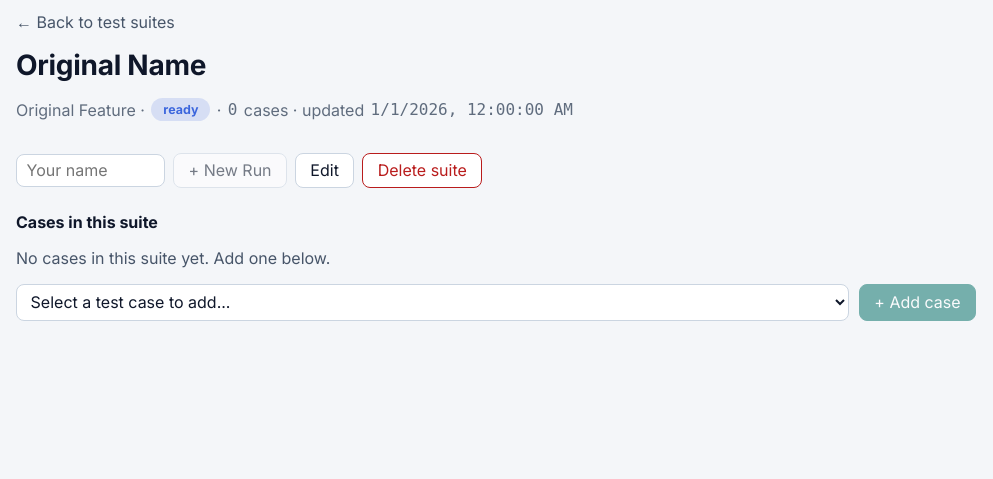
Test: TestSuiteDetailPage — edit/cancel › cancelling an edit does not leak the discarded draft into the next edit session
Check: the heading "Original Name" is shown, box [16,48,206,82]
Click the button "Edit" at (325, 170), box [295,153,354,188]
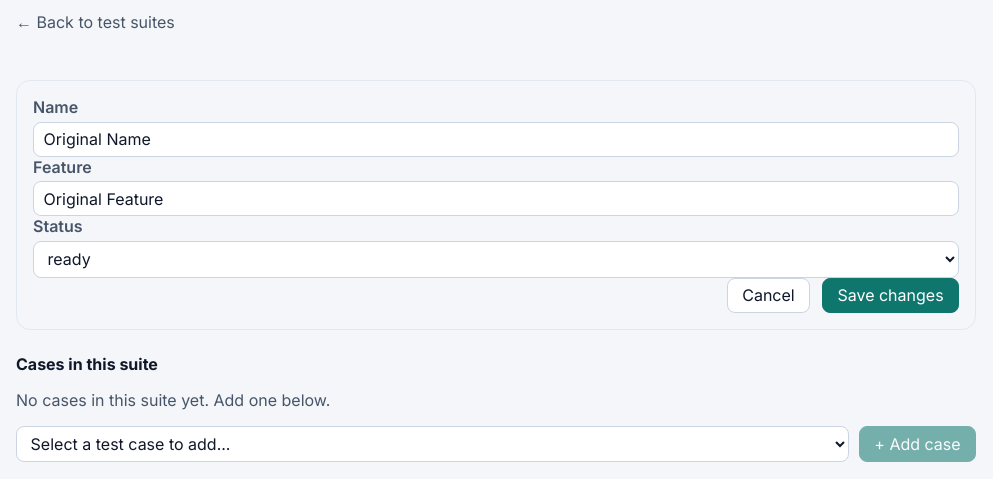
Replace the text in the field labelled "Name" with "Discarded Name" at (496, 139), box [33,122,959,157]
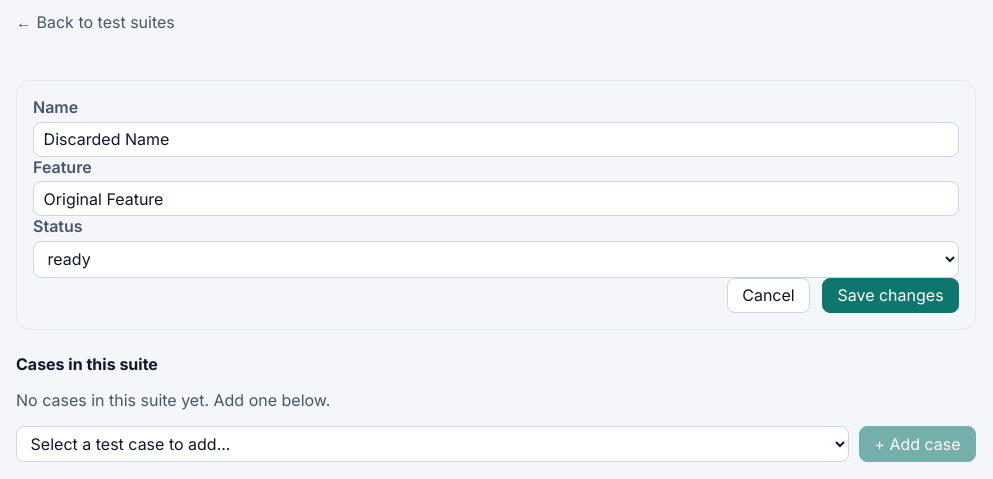
Replace the text in the field labelled "Feature" with "Discarded Feature" at (496, 199), box [33,181,959,216]
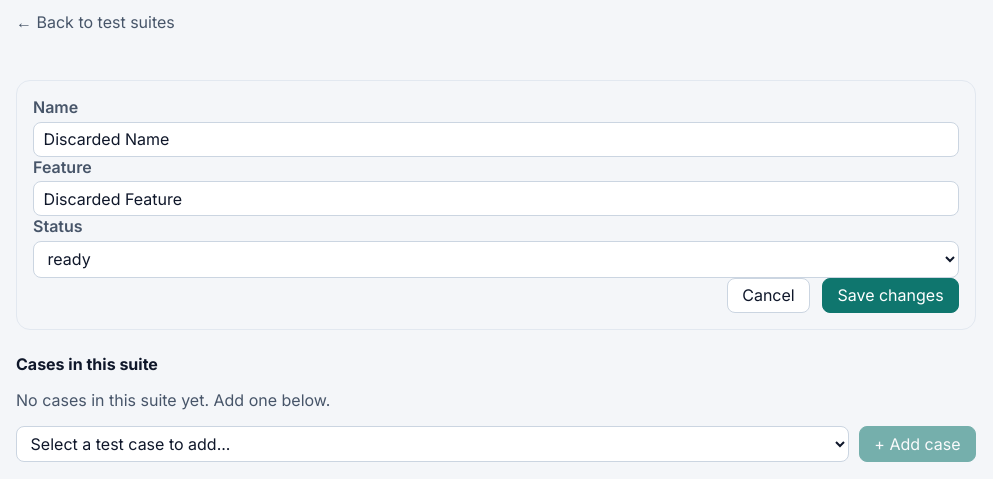
Click the button "Cancel" at (768, 295), box [727,278,810,312]
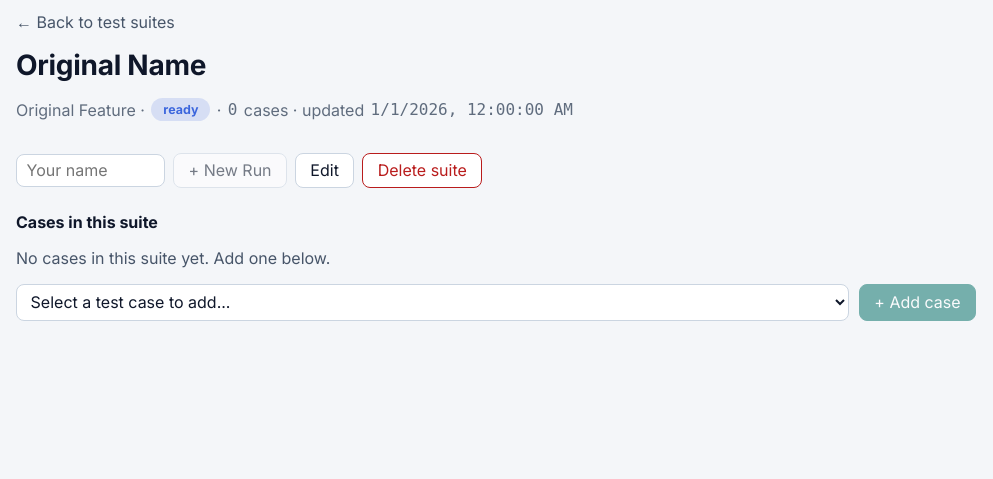
Click the button "Edit" at (325, 170), box [295,153,354,188]
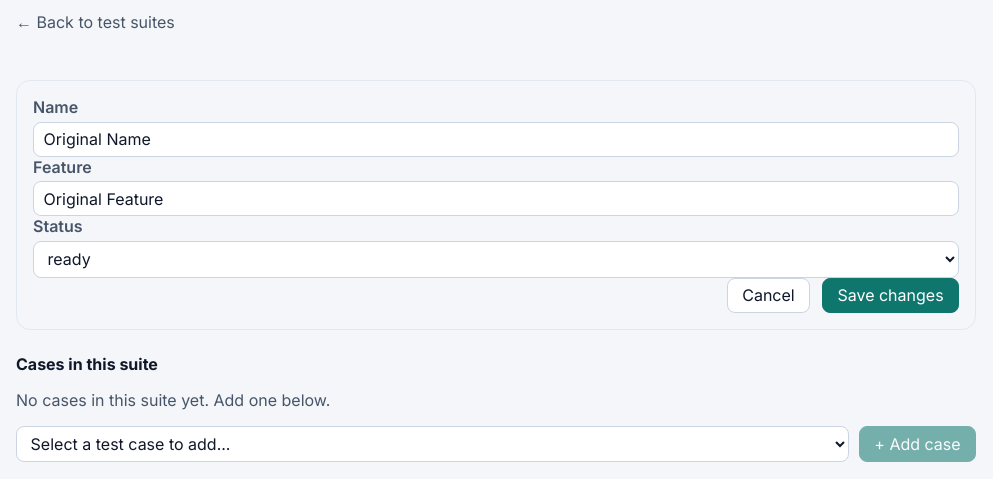
Check: the field labelled "Name" holds "Original Name", box [33,122,959,157]
Check: the field labelled "Feature" holds "Original Feature", box [33,181,959,216]
